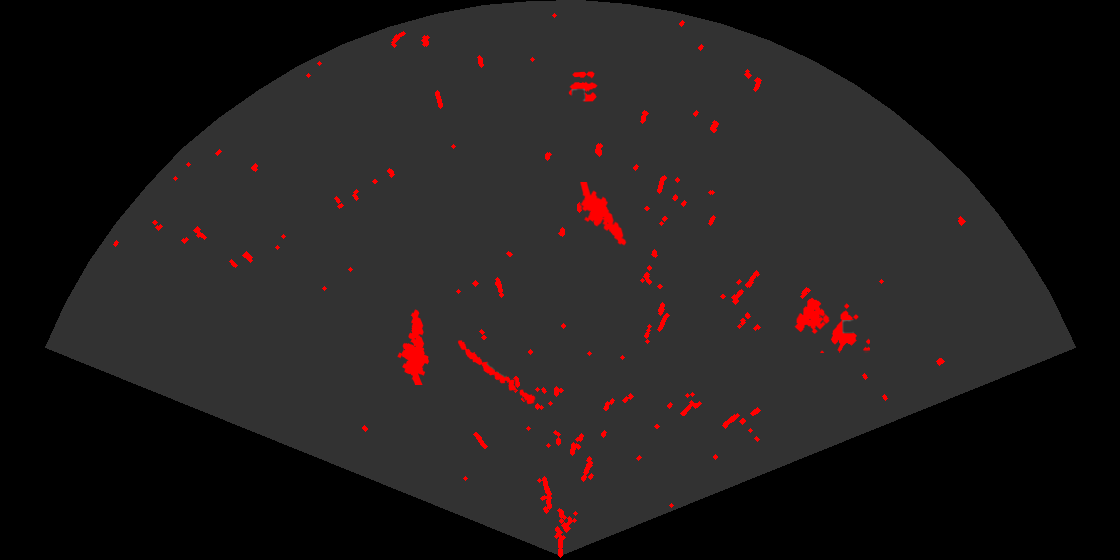ball: (567, 70, 599, 103)
cage: (793, 296, 870, 353)
chain: (456, 339, 537, 406)
frogman: (579, 182, 628, 247), (396, 308, 431, 385)
